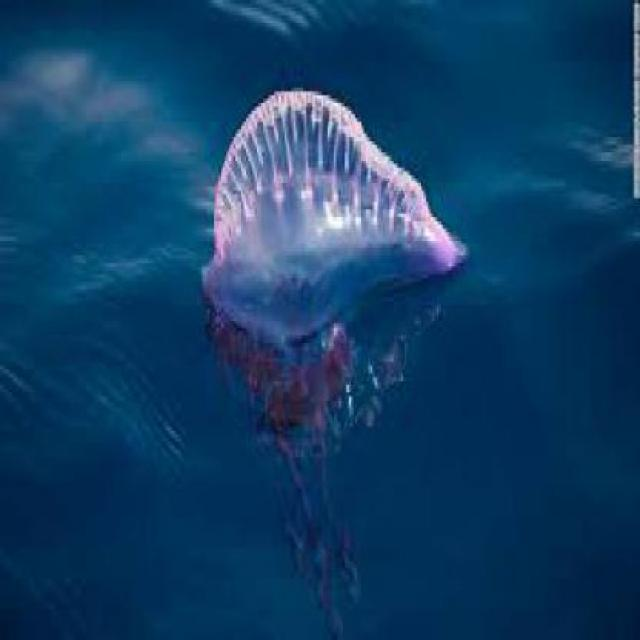Jellyfish: (184, 53, 473, 590)
